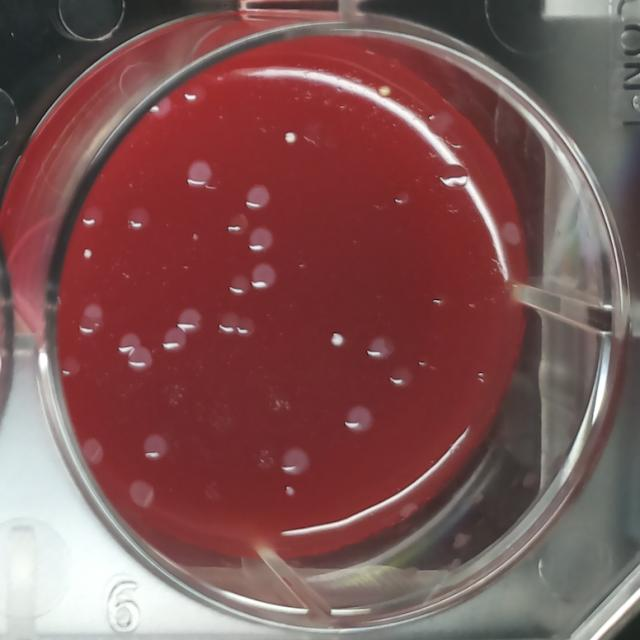Staphylococcus: (281, 128, 298, 148), (329, 330, 346, 350), (376, 81, 392, 99)
